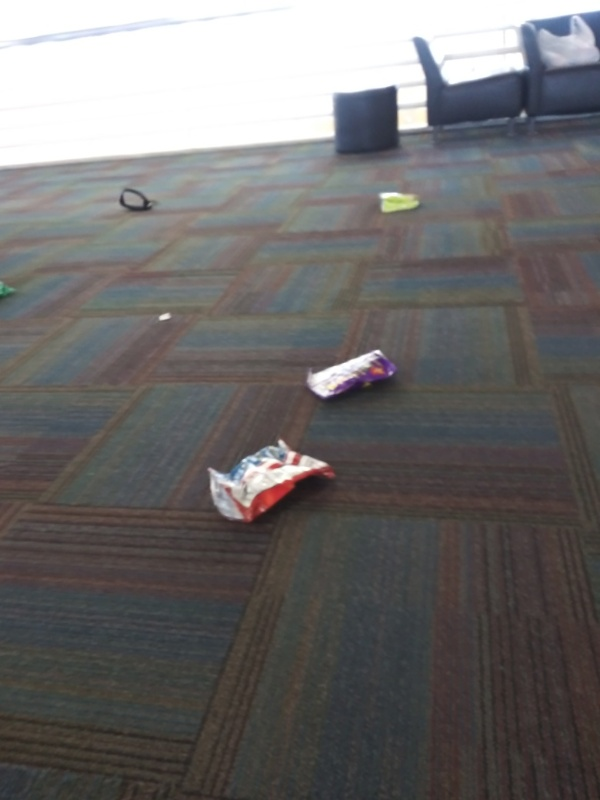bag: (202, 435, 340, 527), (301, 347, 404, 407), (374, 188, 428, 218)
